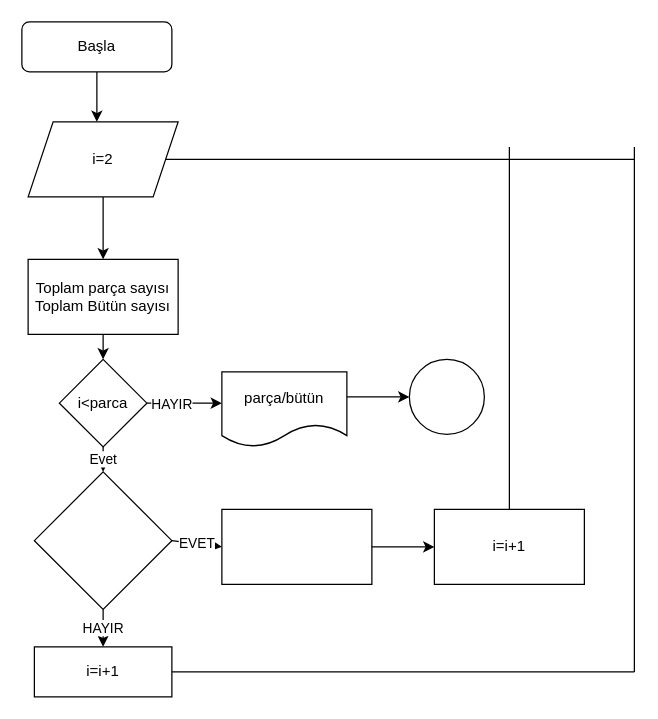
Some shapes in this 658 by 719 pixel diagram are drawn without their labels. Here are the shapes that lost their labels. From the top down, the centre of each, then its label:
point 446,396: Bitir
point 102,540: parça &&bütün%i==0
point 296,546: Parça=parça/i Bütün=bütün/i
